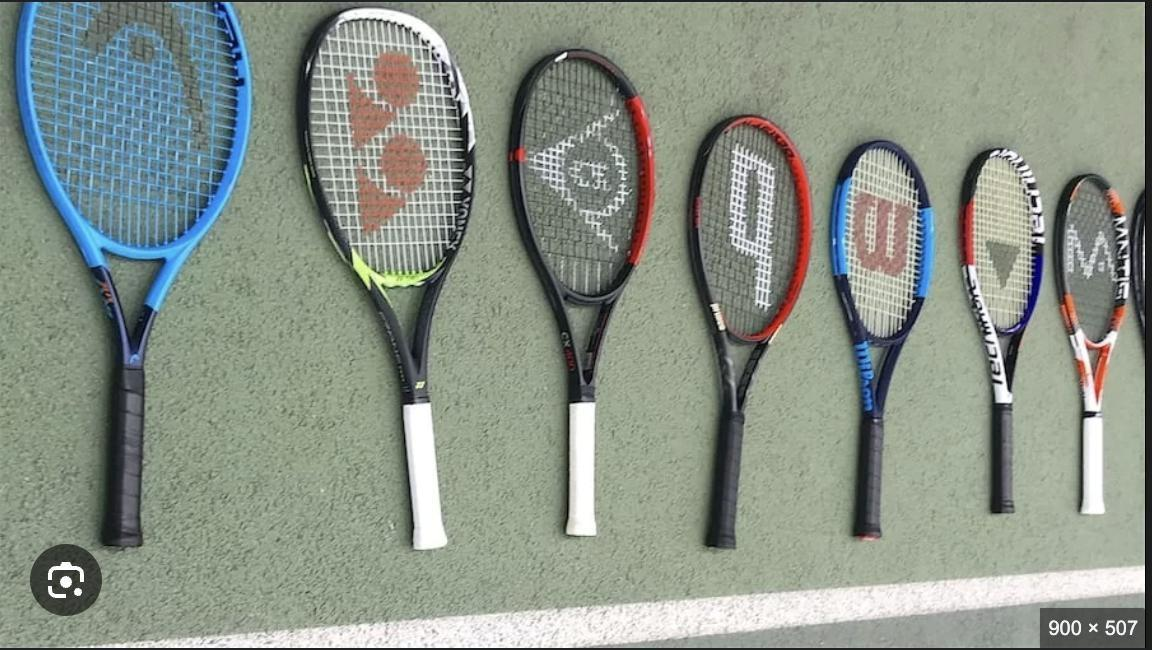Tennis-Racket: (16, 2, 252, 547), (297, 7, 475, 549), (508, 50, 654, 536), (690, 115, 812, 549), (830, 140, 934, 540), (963, 149, 1046, 514), (1056, 174, 1130, 516)
